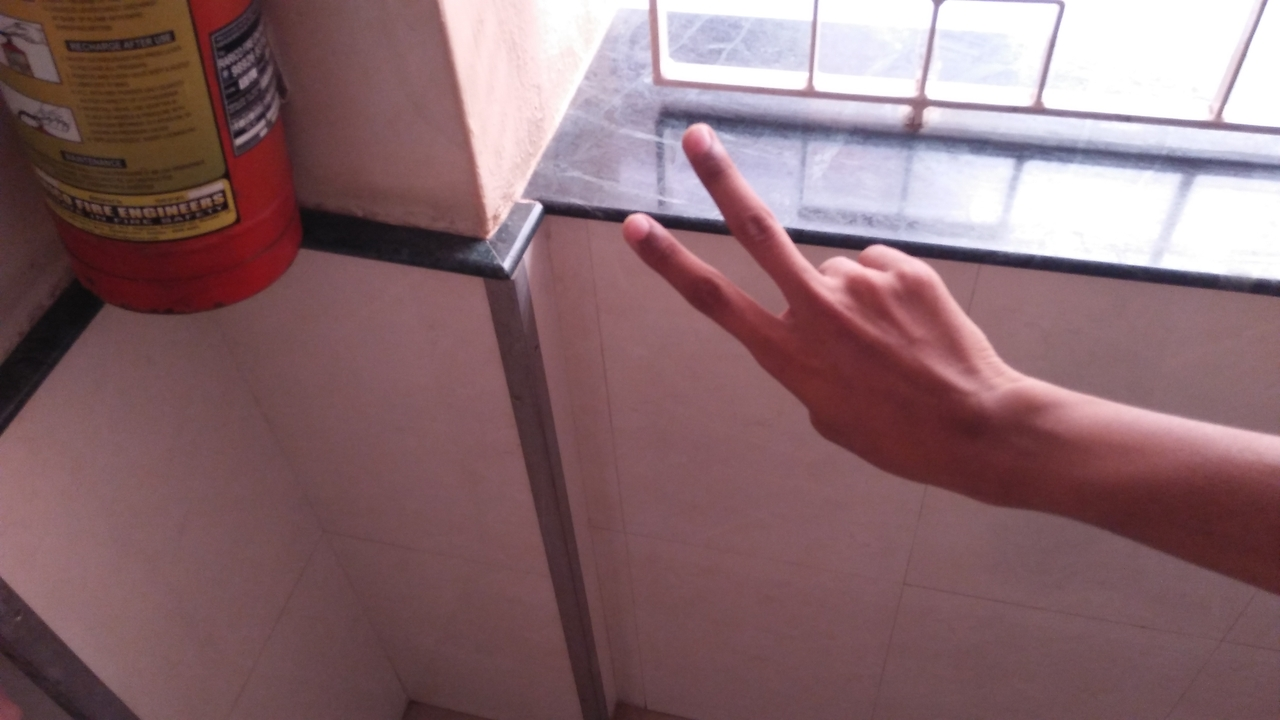fingertip: (614, 200, 674, 256), (678, 112, 732, 164)
